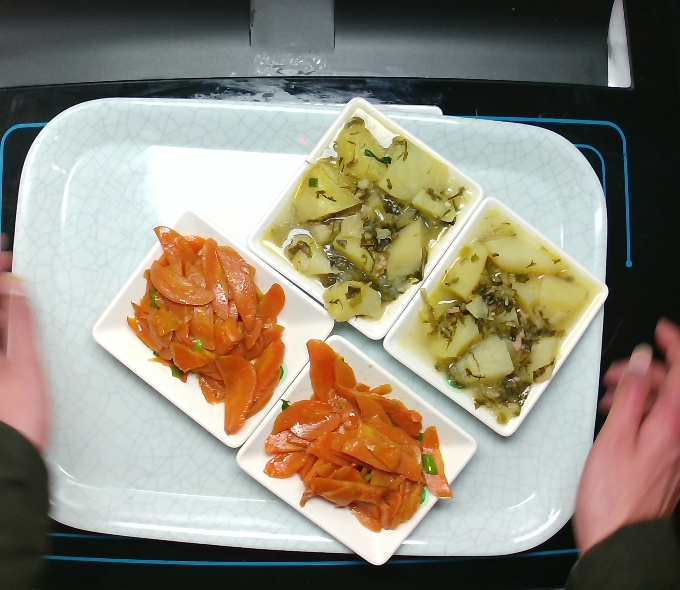wcq-HuLuoBo: (120, 216, 293, 444), (258, 340, 452, 526)
wcq-XueCaiTuDou: (402, 222, 601, 422), (268, 119, 467, 319)
